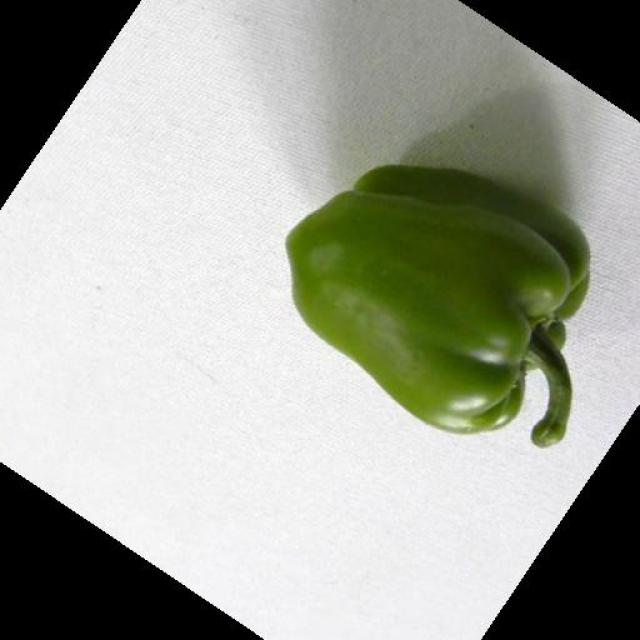Fresh_Capsicum: (284, 173, 584, 454)
